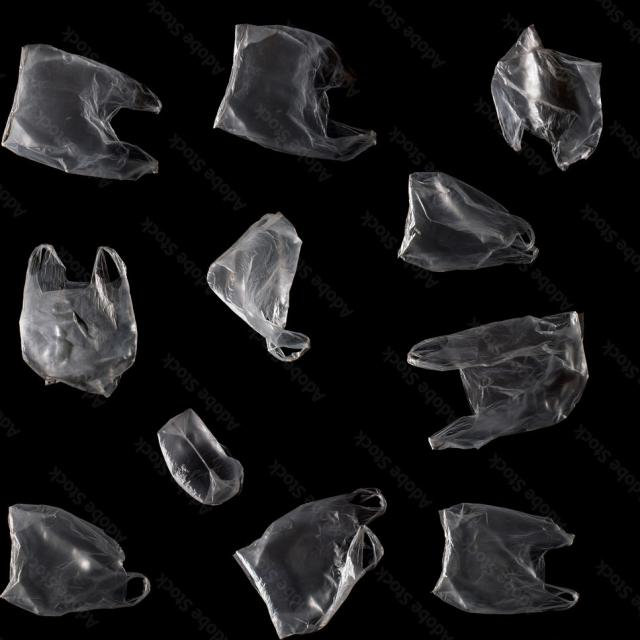Single-layer Plastic: (408, 311, 589, 449), (236, 489, 386, 638), (214, 25, 376, 161), (2, 45, 161, 179), (20, 244, 138, 397), (1, 504, 150, 616), (491, 25, 602, 170), (432, 504, 579, 613), (208, 212, 310, 361), (399, 172, 539, 271), (159, 409, 244, 505)
